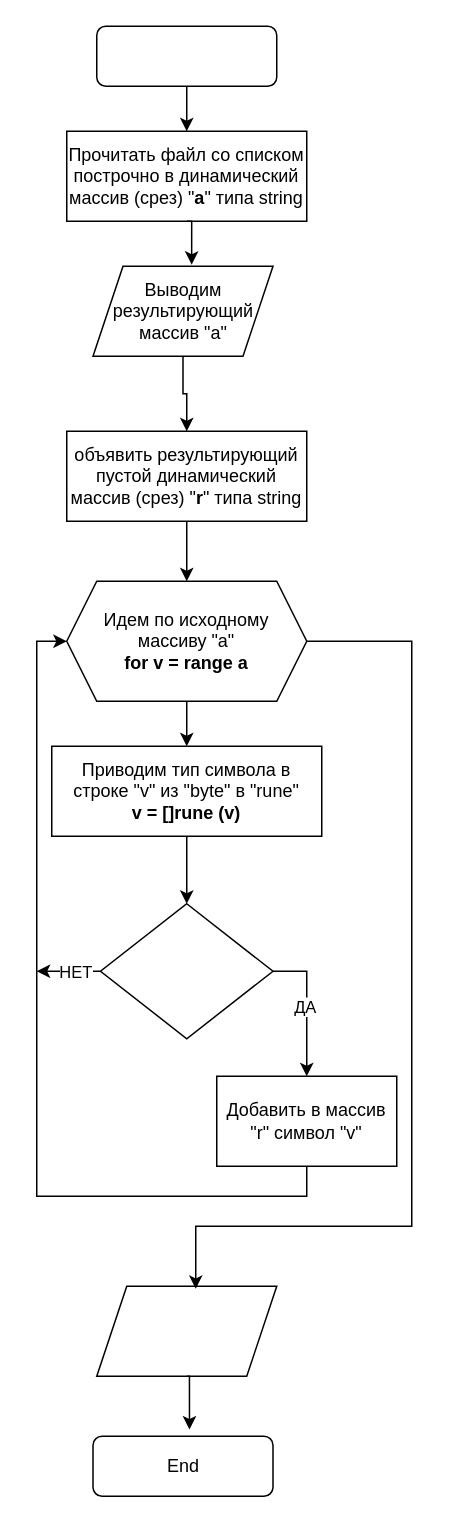
The diagram is 450 pixels wide and 1523 high, and some of its shapes have lost their labels. The centre of each missing label's shape, as x and y in pixels:
len ( v ) < 4: [186,970]
Start: [186,55]
Выводим результирующий массив "r": [186,1330]
